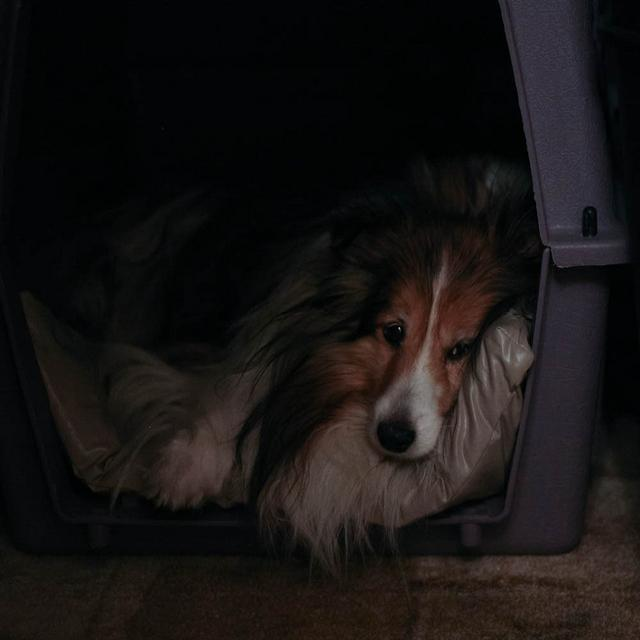Dog: (64, 189, 640, 569)
